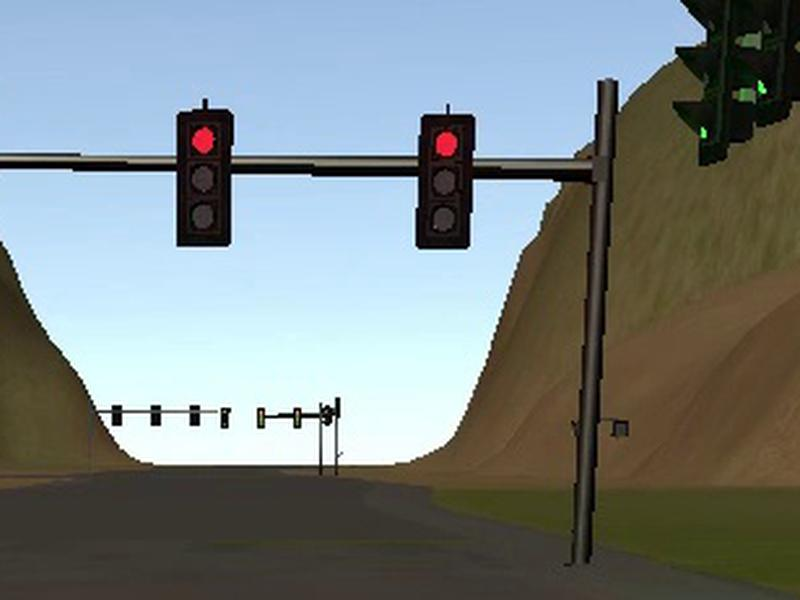Red: (415, 114, 476, 250), (176, 110, 231, 245)
